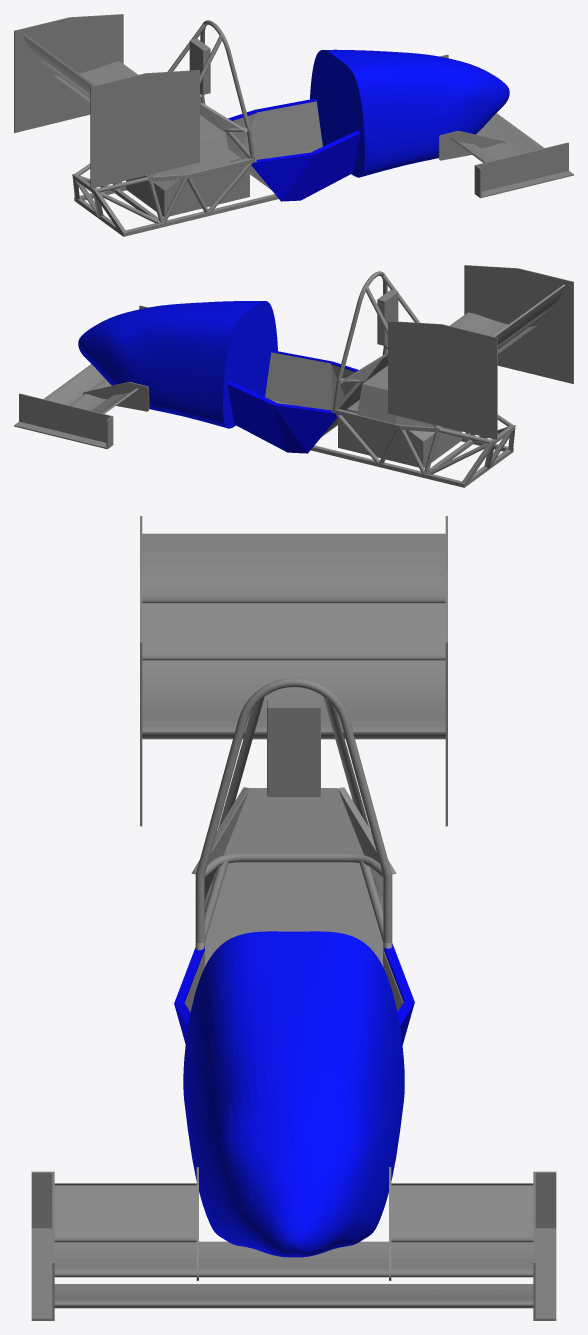
Rendered from utfr_chassis.dae.
3 views of the same model, one above another, from view 1: azimuth 30°, elevation 25°; view 2: azimuth 150°, elevation 25°; view 3: azimuth 270°, elevation 25° (orthographic). The views are drawn at different scales.
Parts seen in each view (by area): view 1: UT23_CFD, UT23 CFD Nosecone, right_Sidepanels, left_Sidepanels; view 2: UT23_CFD, UT23 CFD Nosecone, left_Sidepanels; view 3: UT23_CFD, UT23 CFD Nosecone, left_Sidepanels.
Part boxes in pixels (<box>): UT23_CFD: <box>14,14,573,236</box>; UT23 CFD Nosecone: <box>310,49,509,177</box>; right_Sidepanels: <box>251,130,360,201</box>; left_Sidepanels: <box>228,99,316,120</box>; UT23_CFD: <box>14,265,573,487</box>; UT23 CFD Nosecone: <box>78,301,277,428</box>; left_Sidepanels: <box>227,381,338,453</box>; UT23_CFD: <box>31,516,556,1320</box>; UT23 CFD Nosecone: <box>183,931,404,1257</box>; left_Sidepanels: <box>384,943,414,1044</box>.
Bounding box in the file's own units: 2.94 × 1.46 × 1.11.
